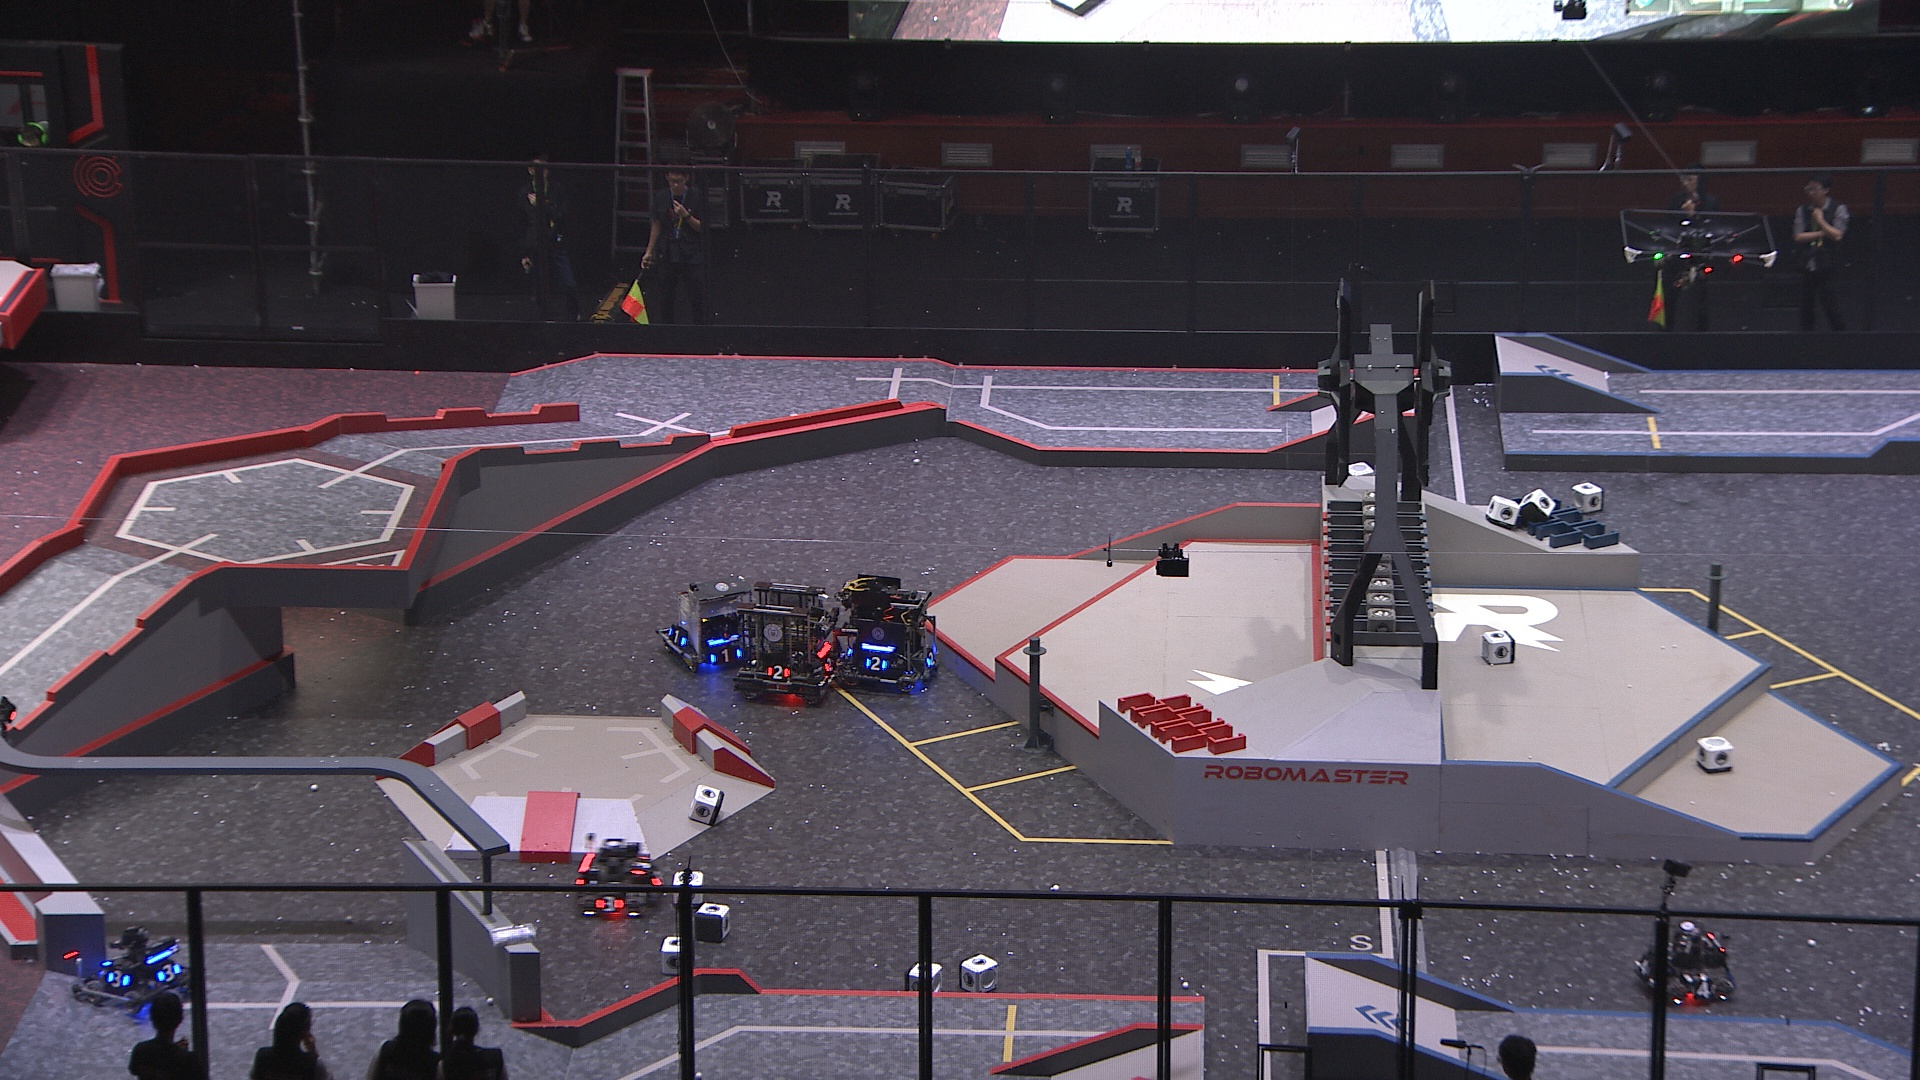armor: (705, 644, 742, 666), (593, 893, 632, 913), (103, 965, 131, 992), (622, 855, 651, 880), (152, 963, 182, 986), (665, 622, 688, 650), (98, 949, 128, 971), (1691, 977, 1718, 1000), (764, 662, 790, 683), (920, 645, 939, 669), (864, 655, 889, 671), (822, 651, 839, 674), (1636, 955, 1654, 977)
car: (727, 575, 847, 705), (832, 572, 945, 688), (647, 571, 756, 673), (73, 918, 186, 1011), (1633, 916, 1742, 1007), (575, 831, 671, 922)
